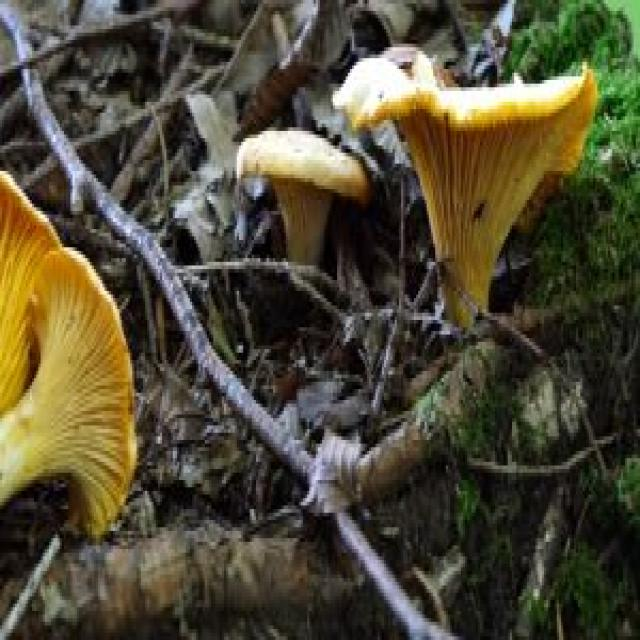chanterelle: (333, 44, 599, 331), (0, 251, 137, 535)
